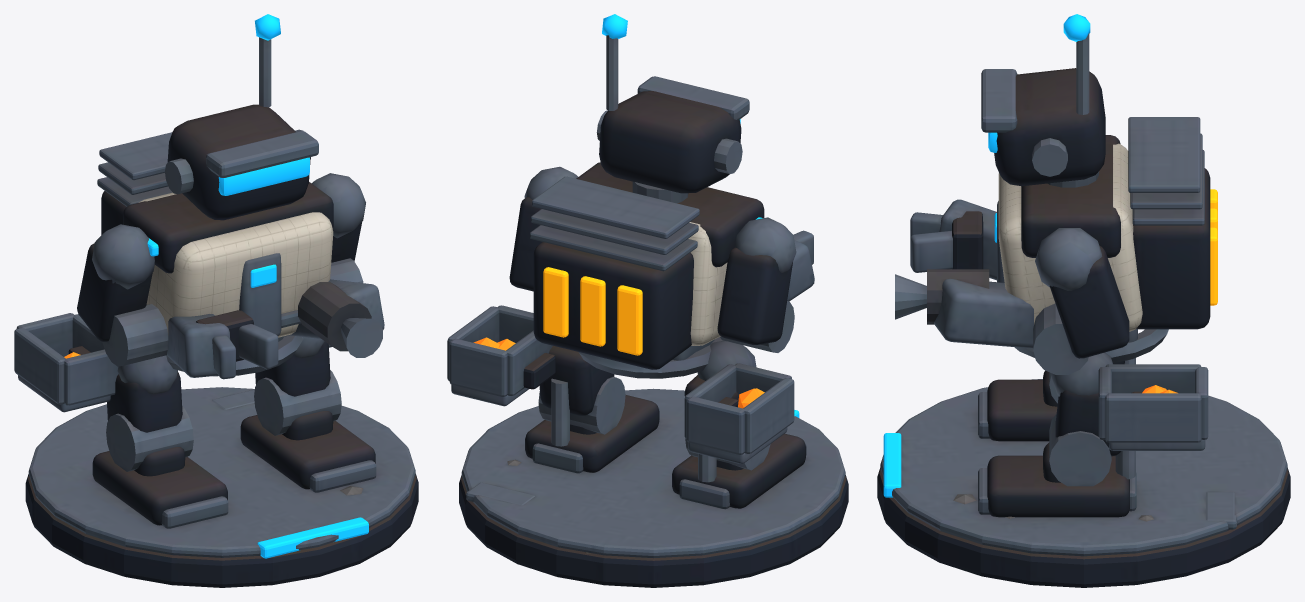
File: android.glb
3 renders of one model, left to right at view 1: azimuth 30°, elevation 25°; view 2: azimuth 150°, elevation 25°; view 3: azimuth 270°, elevation 25°, orthographic. The views are drawn at different scales.
Parts seen in each view (by area): view 1: Android Chassis, Android Graphite, Android Ceramic, Android FactionAccent; view 2: Android Chassis, Android Graphite, Android Energy, Android Ceramic, Android ResourceOre, Android FactionAccent; view 3: Android Chassis, Android Graphite, Android Ceramic, Android FactionAccent, Android Energy.
Part boxes in pixels (box(x1,y1,x2,y2)): Android Chassis: box(14, 37, 415, 557); Android Graphite: box(25, 104, 418, 587); Android Ceramic: box(138, 192, 333, 337); Android FactionAccent: box(147, 14, 368, 558); Android Chassis: box(447, 35, 845, 558); Android Graphite: box(459, 91, 848, 587); Android Energy: box(543, 267, 642, 355); Android Ceramic: box(688, 222, 727, 345); Android ResourceOre: box(473, 337, 764, 408); Android FactionAccent: box(602, 14, 799, 417); Android Chassis: box(880, 33, 1287, 556); Android Graphite: box(877, 68, 1290, 587); Android Ceramic: box(998, 143, 1142, 331); Android FactionAccent: box(883, 14, 1090, 497); Android Energy: box(1210, 189, 1217, 305).
Bounding box in the file's own units: 0.69 × 0.941 × 0.69.
Materials: 7 (4 with a texture image).
